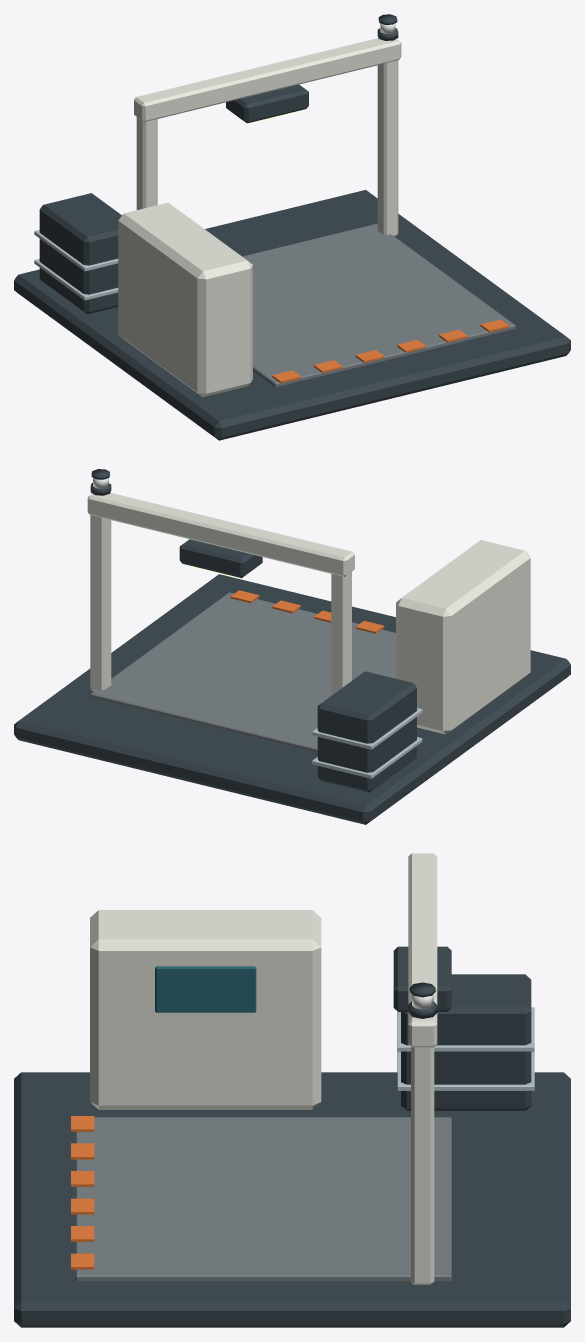
Rendered from dock.glb.
3 renders of one model, top to bottom at view 1: azimuth 30°, elevation 25°; view 2: azimuth 150°, elevation 25°; view 3: azimuth 270°, elevation 25°, orthographic. The views are drawn at different scales.
Visible parts, largest first — view 1: dock_dark, dock_ivory, dock_floor, dock_orange, dock_metal; view 2: dock_dark, dock_ivory, dock_floor, dock_metal, dock_orange; view 3: dock_dark, dock_floor, dock_ivory, dock_glass, dock_orange, dock_metal.
Boxes of the visible parts, x1,y1,x2,y2 form: dock_dark: (14,14,570,440); dock_ivory: (118,38,401,397); dock_floor: (242,223,515,387); dock_orange: (272,319,509,383); dock_metal: (34,230,118,300); dock_dark: (14,469,570,824); dock_ivory: (87,492,530,734); dock_floor: (90,592,395,752); dock_metal: (312,708,422,778); dock_orange: (230,590,384,633); dock_dark: (14,946,570,1327); dock_floor: (75,1117,451,1281); dock_ivory: (90,853,437,1284); dock_glass: (155,966,256,1012); dock_orange: (71,1116,94,1269); dock_metal: (397,1007,534,1090).
Size of the model in its own units: 3.85 by 2.44 by 3.85.
